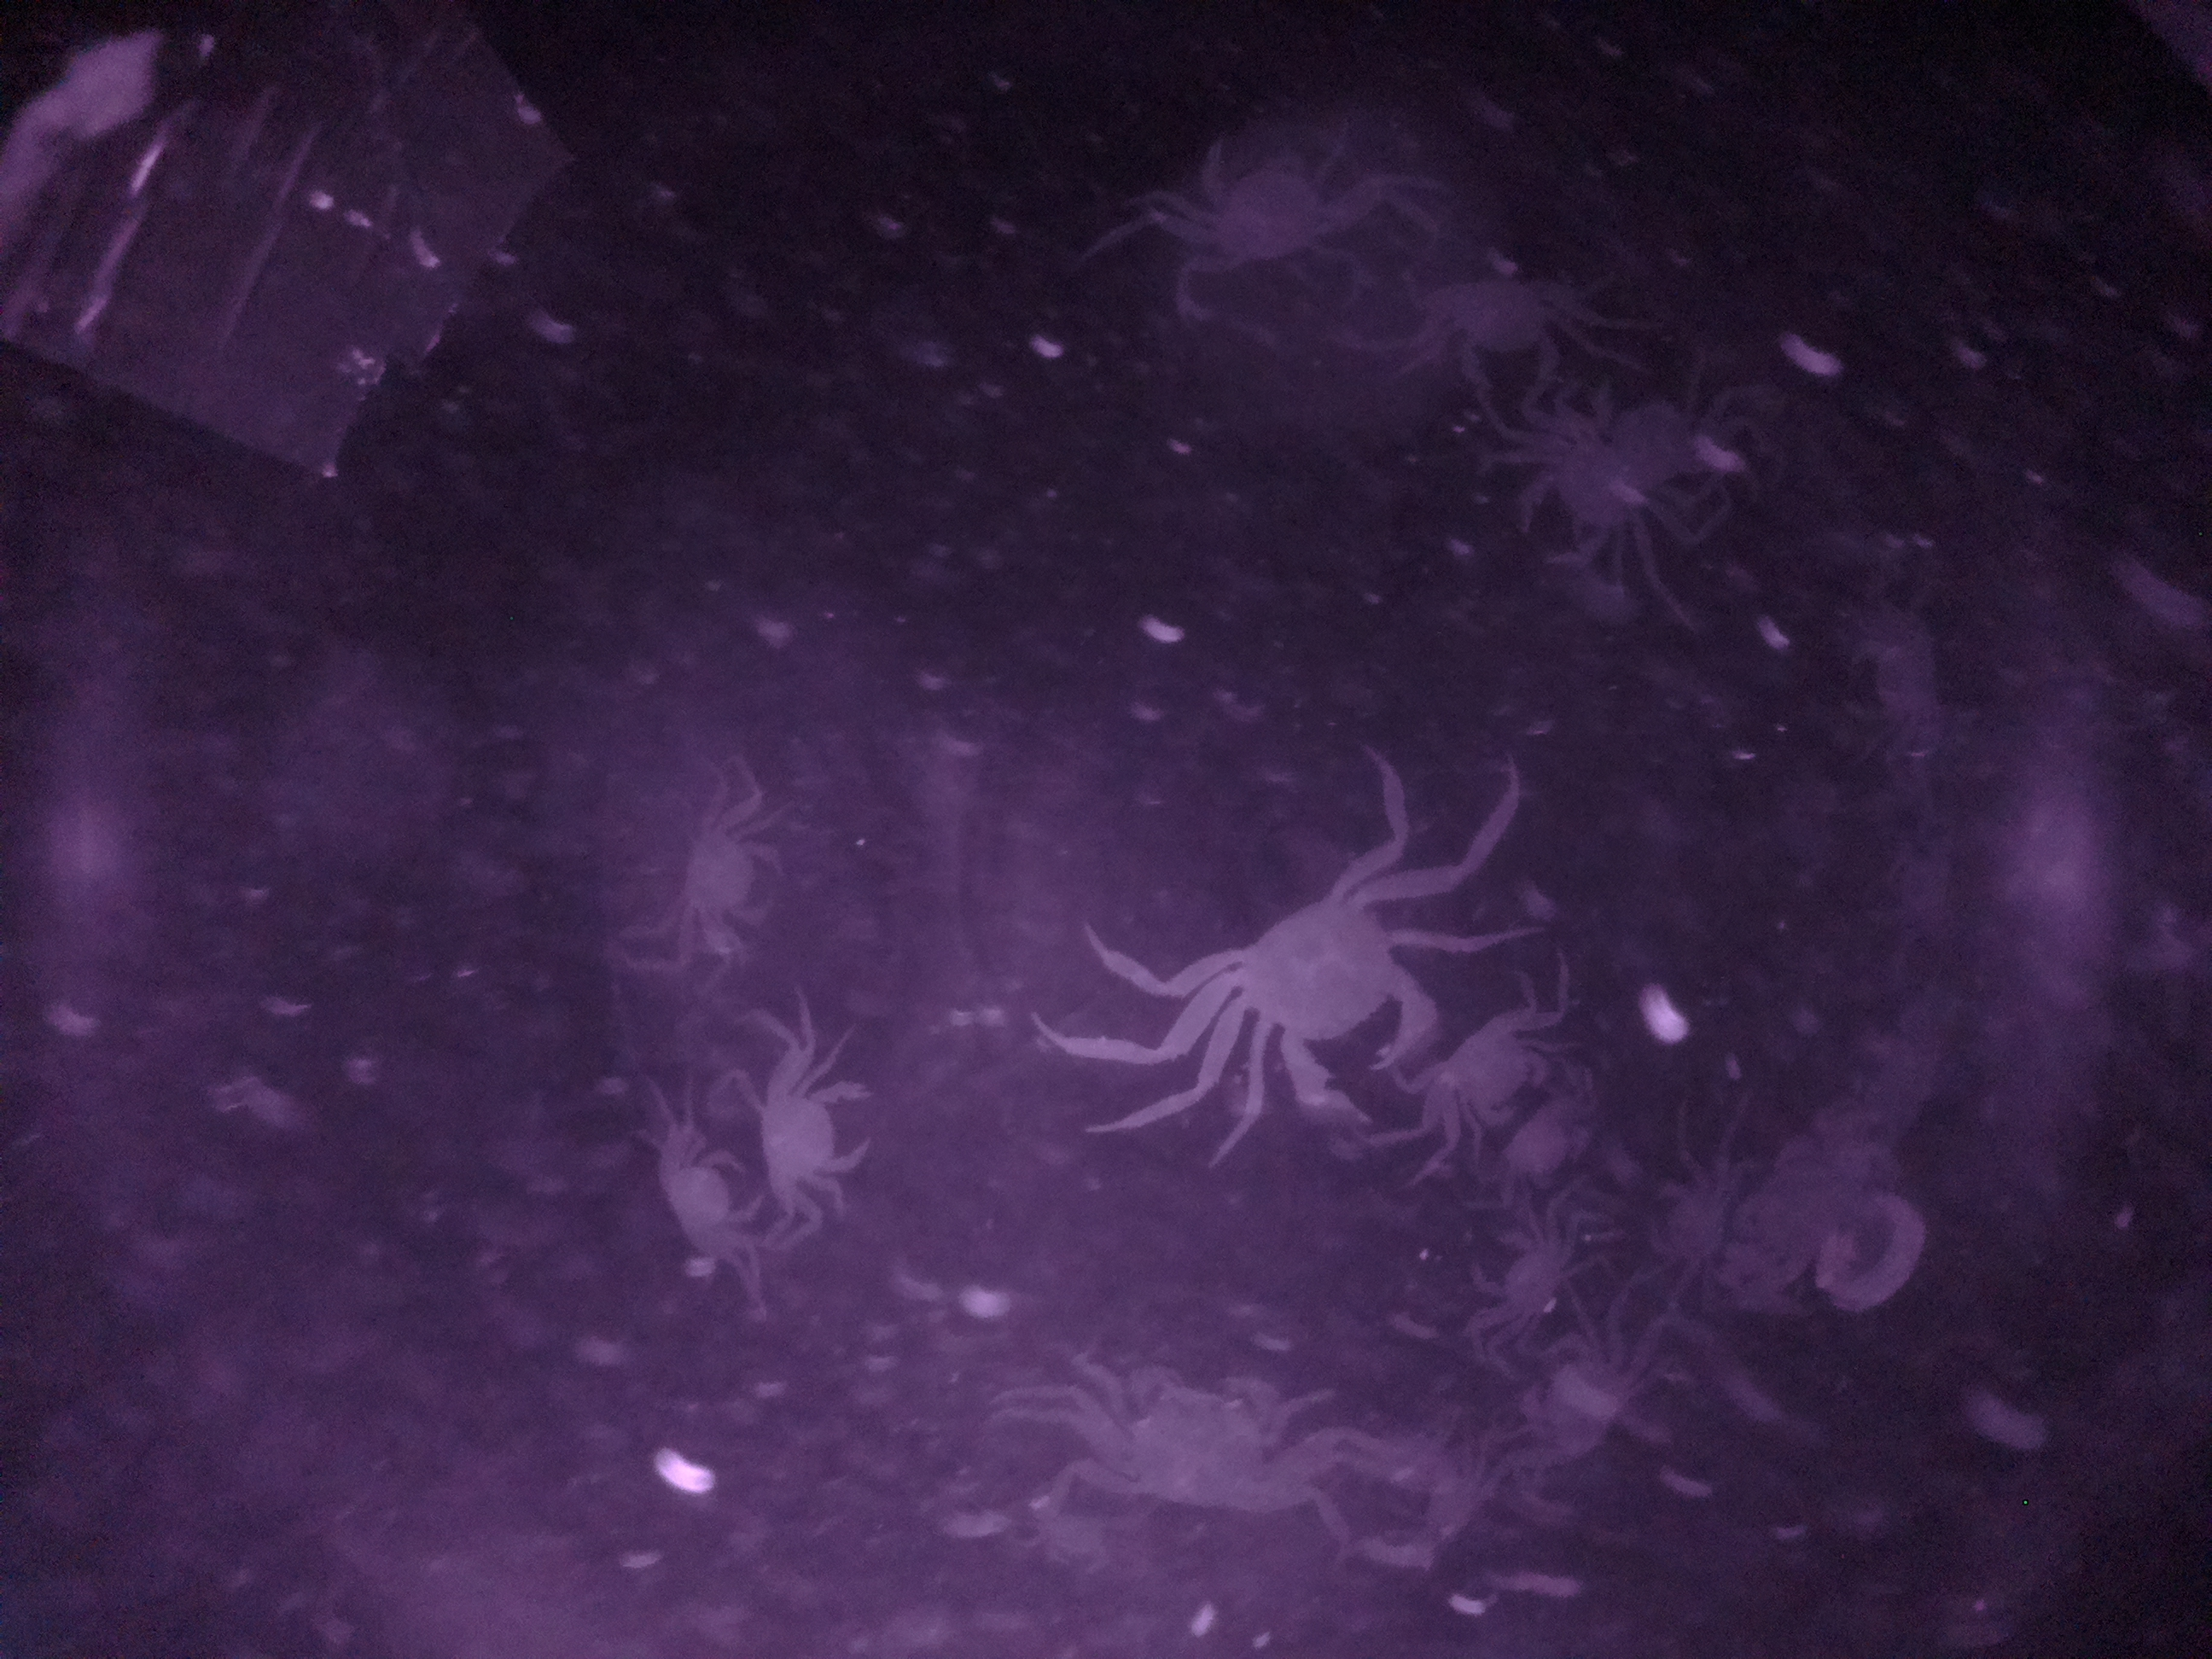Crab: (1214, 840, 1449, 1134), (1068, 1328, 1312, 1542), (1406, 983, 1573, 1187), (1402, 260, 1613, 401), (1505, 1300, 1646, 1500), (738, 1033, 890, 1218), (651, 782, 794, 964), (1630, 1126, 1754, 1310), (1451, 1197, 1594, 1345)
